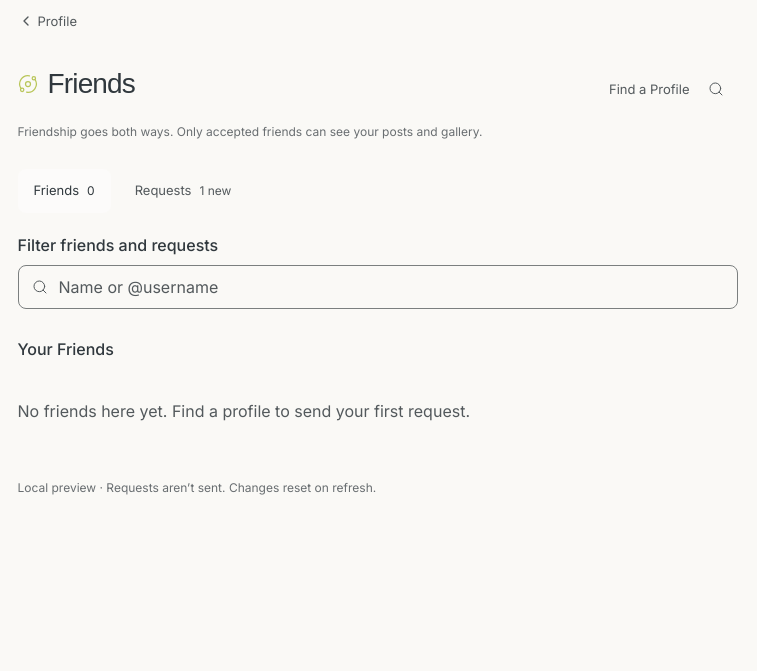
Test: shows sent requests, supports cancellation and decline, and filters without hiding status feedback
Click the button "Requests 1 new": {"x": 183, "y": 191} [119,169,247,213]
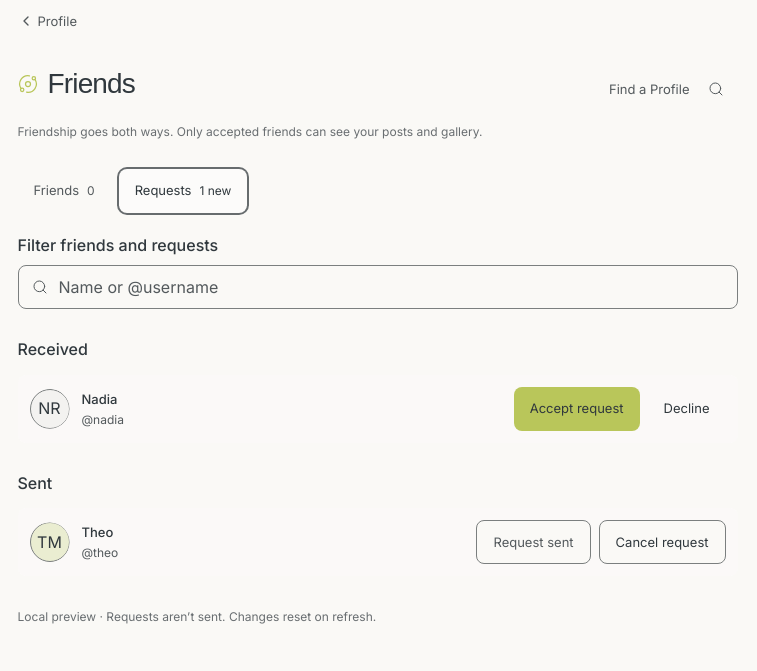
Click the button "Cancel request": {"x": 662, "y": 542} [599,520,726,564]
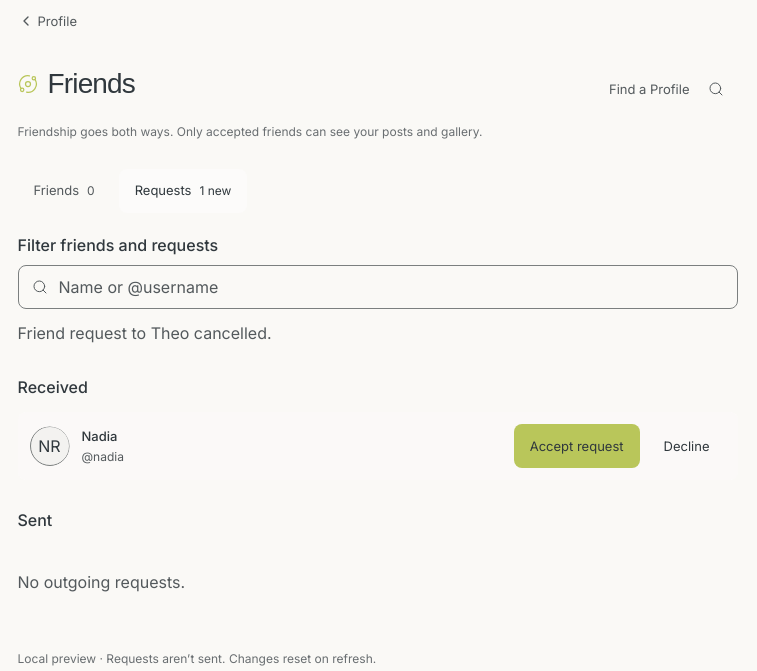
Expected: the text "No outgoing requests." is shown, [18,572,185,592]
In the search field: {"x": 378, "y": 287} [18,265,738,309], type "no such name"
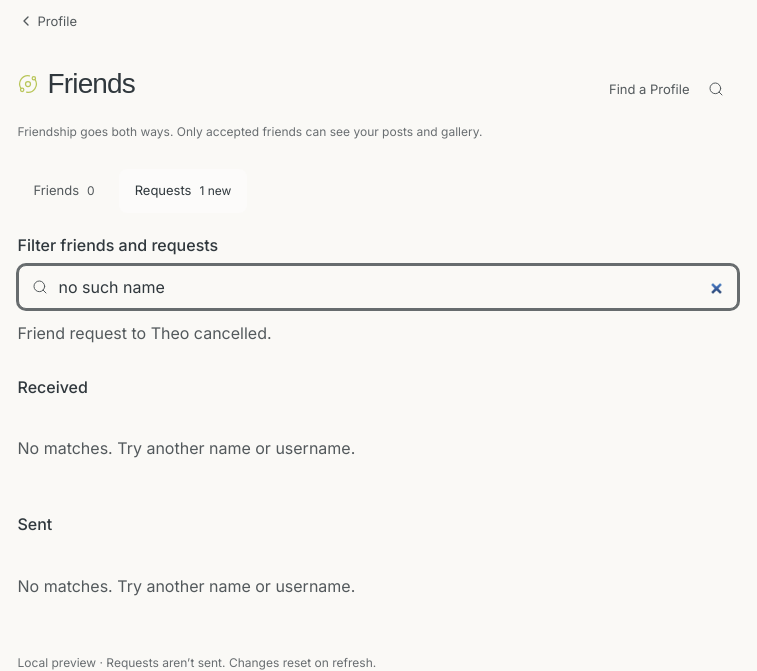
Expected: the text "No matches. Try another name or username." is shown 2 times, [18,438,355,458]; [18,576,355,596]
Clear the search field: {"x": 378, "y": 287} [18,265,738,309]
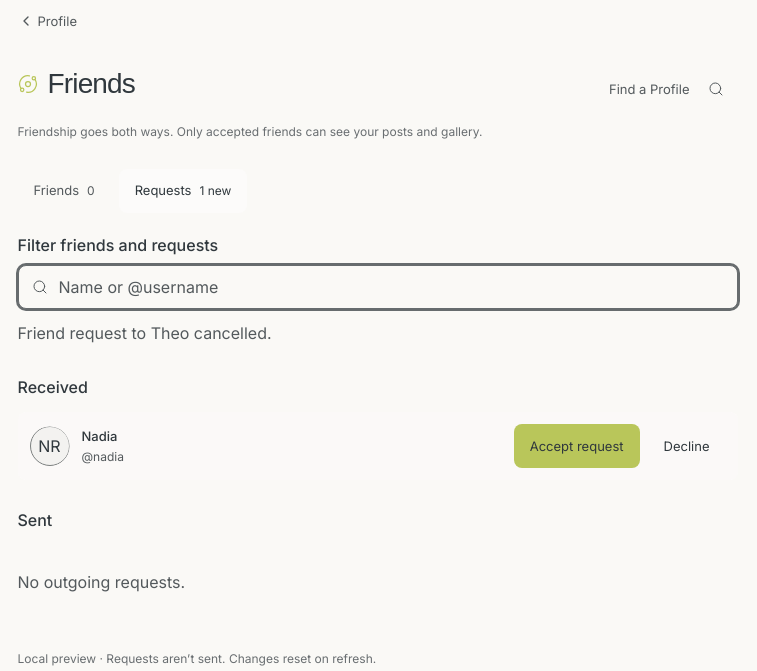
Click the button "Decline": {"x": 686, "y": 446} [648,424,726,468]
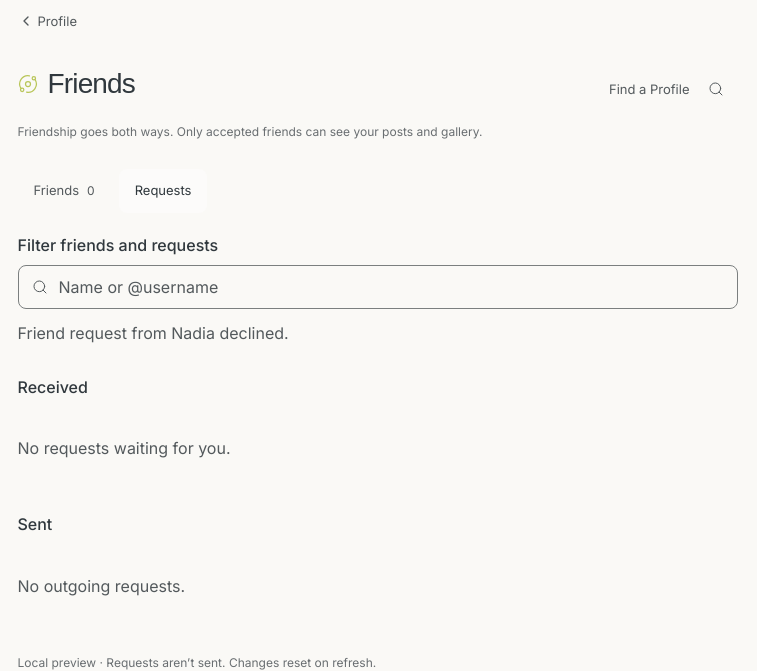
Expected: the text "No requests waiting for you." is shown, [18,438,230,458]
Expected: the message reads "Friend request from Nadia declined.", [18,323,289,343]
